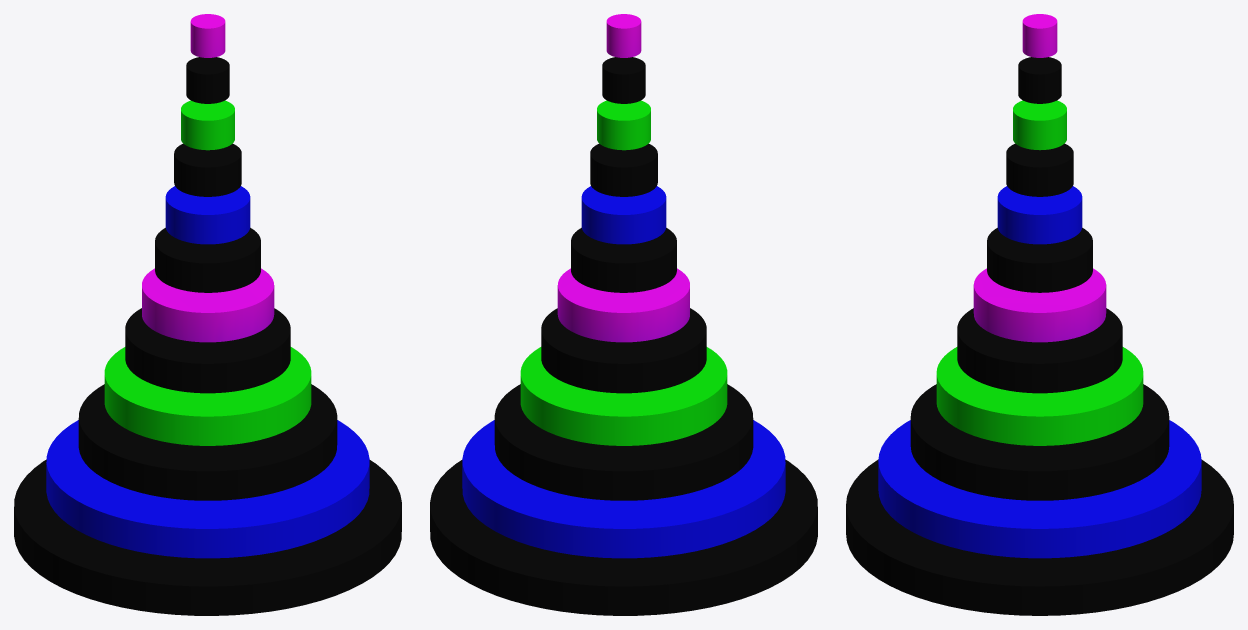
The picture shows the model from 3 angles, left to right: view 1: azimuth 30°, elevation 25°; view 2: azimuth 150°, elevation 25°; view 3: azimuth 270°, elevation 25°; orthographic projection.
Visible parts, largest first — view 1: base, blue, dark, green, dark.001, magenta, dark.002, blue.001, dark.003, green.001, dark.004, peg; view 2: base, blue, dark, green, dark.001, magenta, dark.002, blue.001, dark.003, green.001, dark.004, peg; view 3: base, blue, dark, green, dark.001, magenta, dark.002, blue.001, dark.003, green.001, dark.004, peg.
Part boxes in pixels (x1=…): base: x1=14, y1=459, x2=401, y2=615; blue: x1=46, y1=420, x2=369, y2=558; dark: x1=78, y1=384, x2=337, y2=500; green: x1=104, y1=347, x2=311, y2=445; dark.001: x1=125, y1=308, x2=290, y2=393; magenta: x1=142, y1=268, x2=274, y2=342; dark.002: x1=155, y1=227, x2=260, y2=292; blue.001: x1=165, y1=186, x2=250, y2=244; dark.003: x1=174, y1=143, x2=241, y2=196; green.001: x1=181, y1=100, x2=234, y2=150; dark.004: x1=186, y1=57, x2=229, y2=103; peg: x1=190, y1=14, x2=225, y2=57; base: x1=430, y1=459, x2=817, y2=615; blue: x1=462, y1=420, x2=785, y2=558; dark: x1=494, y1=384, x2=753, y2=500; green: x1=520, y1=347, x2=727, y2=445; dark.001: x1=541, y1=308, x2=706, y2=393; magenta: x1=557, y1=268, x2=689, y2=342; dark.002: x1=571, y1=227, x2=676, y2=292; blue.001: x1=581, y1=186, x2=666, y2=244; dark.003: x1=590, y1=143, x2=657, y2=196; green.001: x1=597, y1=100, x2=650, y2=150; dark.004: x1=602, y1=57, x2=645, y2=103; peg: x1=606, y1=14, x2=641, y2=57; base: x1=846, y1=459, x2=1233, y2=615; blue: x1=878, y1=420, x2=1201, y2=558; dark: x1=910, y1=384, x2=1169, y2=500; green: x1=936, y1=347, x2=1143, y2=445; dark.001: x1=957, y1=308, x2=1122, y2=393; magenta: x1=973, y1=268, x2=1106, y2=342; dark.002: x1=987, y1=227, x2=1092, y2=292; blue.001: x1=997, y1=186, x2=1082, y2=244; dark.003: x1=1006, y1=143, x2=1073, y2=196; green.001: x1=1013, y1=100, x2=1066, y2=150; dark.004: x1=1018, y1=57, x2=1061, y2=103; peg: x1=1022, y1=14, x2=1057, y2=57.
Bounding box in the file's own units: 0.2057 × 0.3 × 0.2057.
